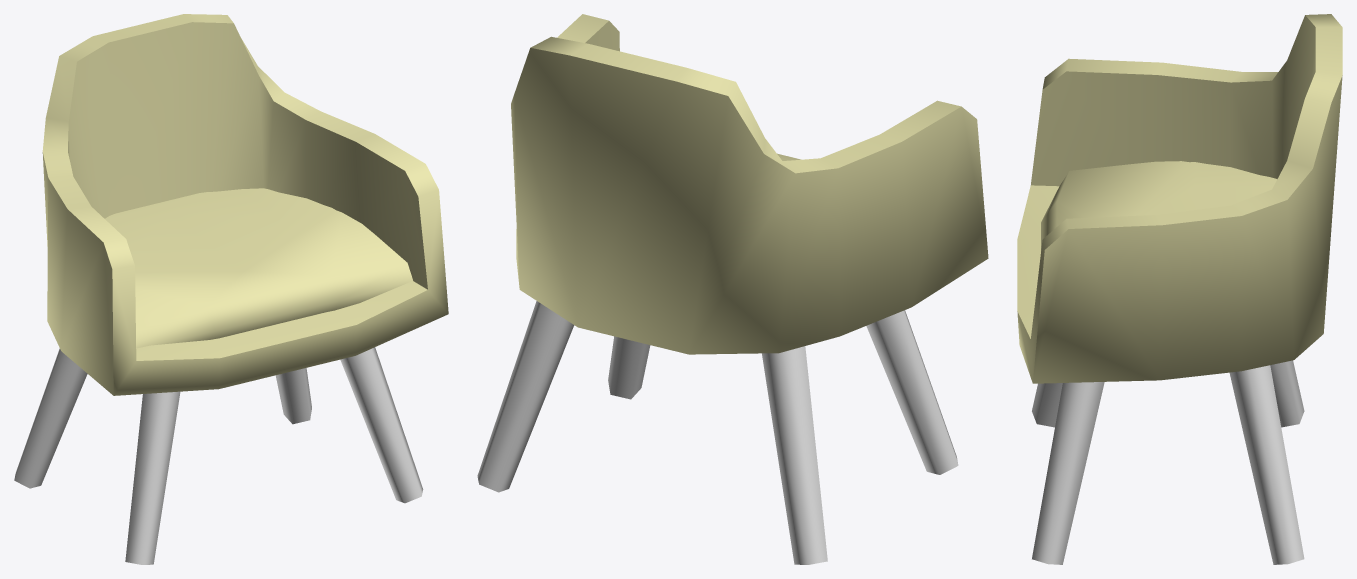
File: chair1.fbx
The picture shows the model from 3 angles, left to right: view 1: azimuth 30°, elevation 25°; view 2: azimuth 150°, elevation 25°; view 3: azimuth 270°, elevation 25°; orthographic projection. The views are drawn at different scales.
Parts seen in each view (by area): view 1: chair1; view 2: chair1; view 3: chair1.
Boxes of the visible parts, x1,y1,x2,y2 form: chair1: [14, 14, 448, 564]; chair1: [477, 14, 988, 564]; chair1: [1017, 14, 1342, 564].
Bounding box in the file's own units: 1.68 × 1.96 × 1.3.
